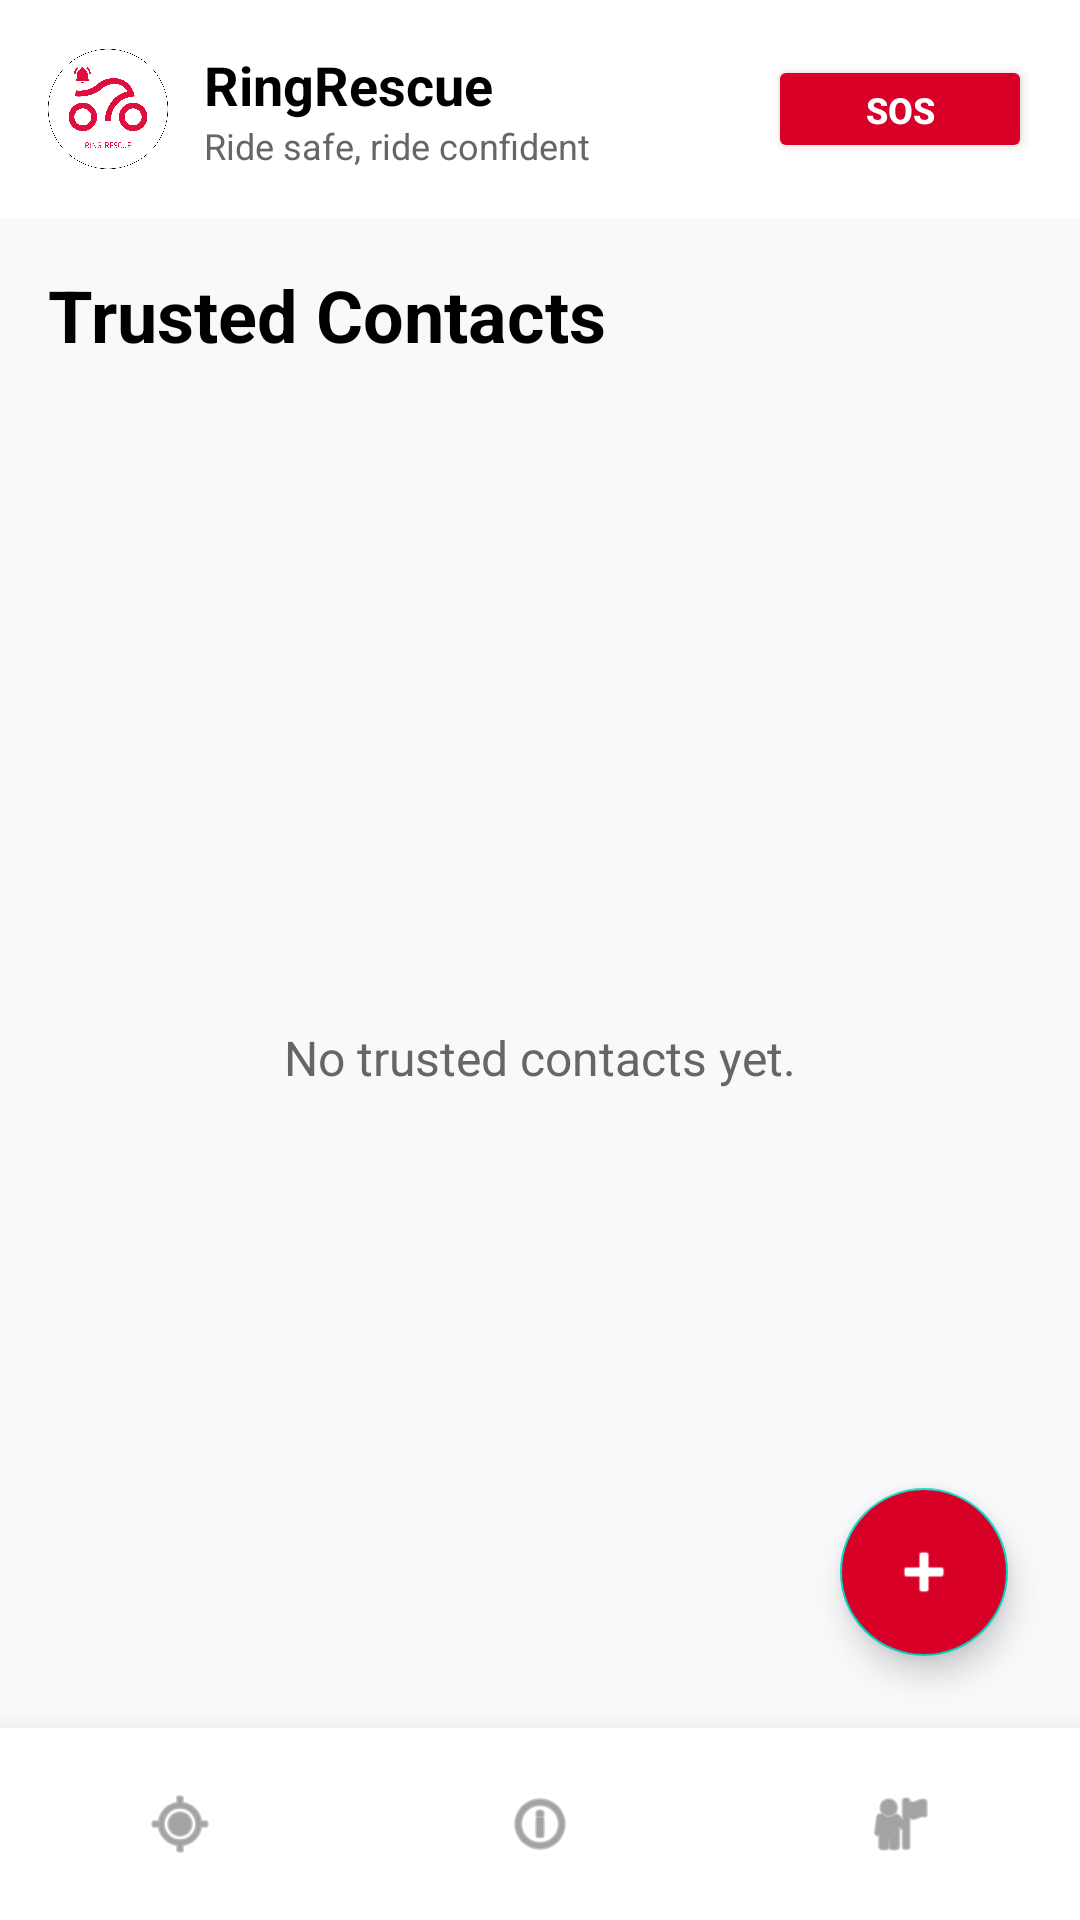

Icon bounding boxes for this 1080 × 1920 phone screenshot, format (x1, y1, x2, y2):
Add Contact: (840, 1488, 1008, 1656)
Device Info: (514, 1798, 566, 1850)
Navigation: (151, 1795, 209, 1853)
